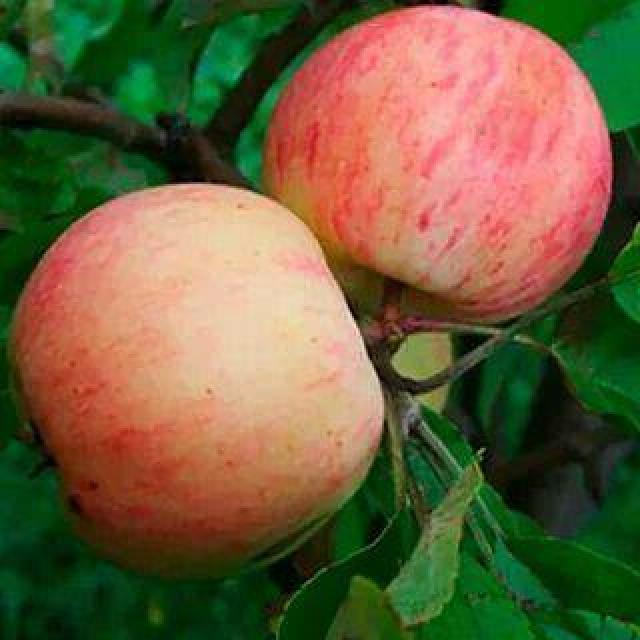Rotten Apple: (15, 183, 383, 585), (266, 8, 610, 324)
